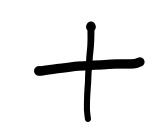plus: (34, 21, 145, 122)
